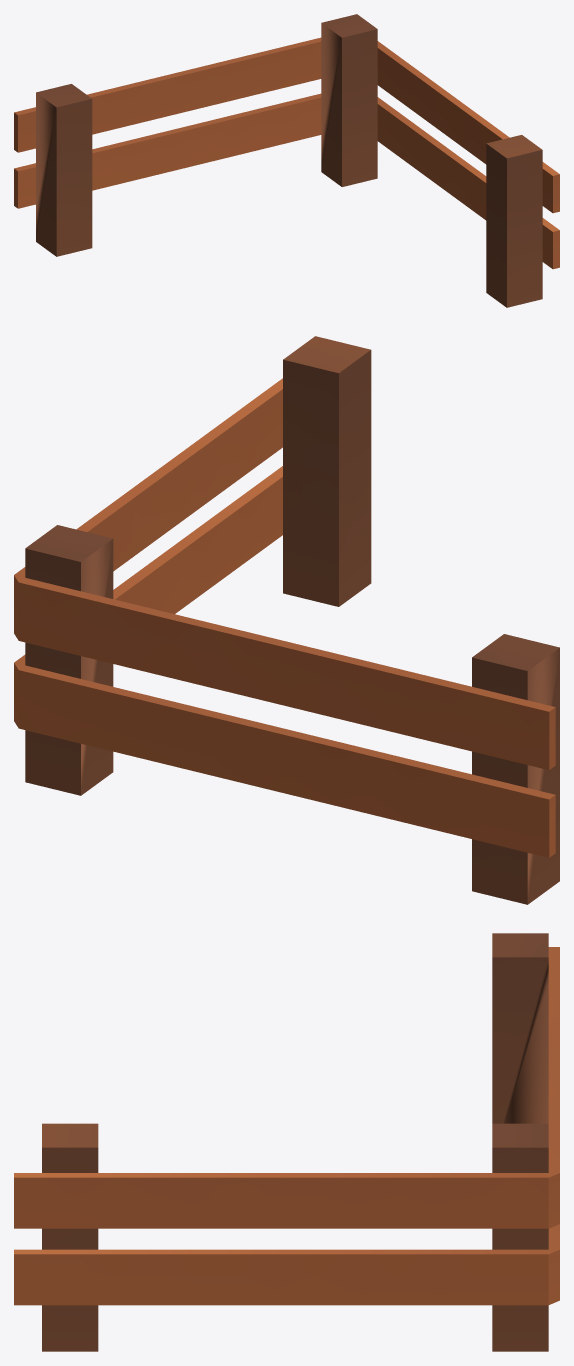
The model's file is fenceCorner.glb.
3 renders of one model, top to bottom at view 1: azimuth 30°, elevation 25°; view 2: azimuth 150°, elevation 25°; view 3: azimuth 270°, elevation 25°, orthographic. The views are drawn at different scales.
Visible parts, largest first — view 1: fenceCorner; view 2: fenceCorner; view 3: fenceCorner.
Boxes of the visible parts, bbox=[...] form: fenceCorner: bbox=[14, 14, 559, 307]; fenceCorner: bbox=[14, 336, 559, 904]; fenceCorner: bbox=[14, 933, 559, 1351].
Size of the model in its own units: 0.97 by 0.4 by 0.97.
Materials: 1 (1 with a texture image).
